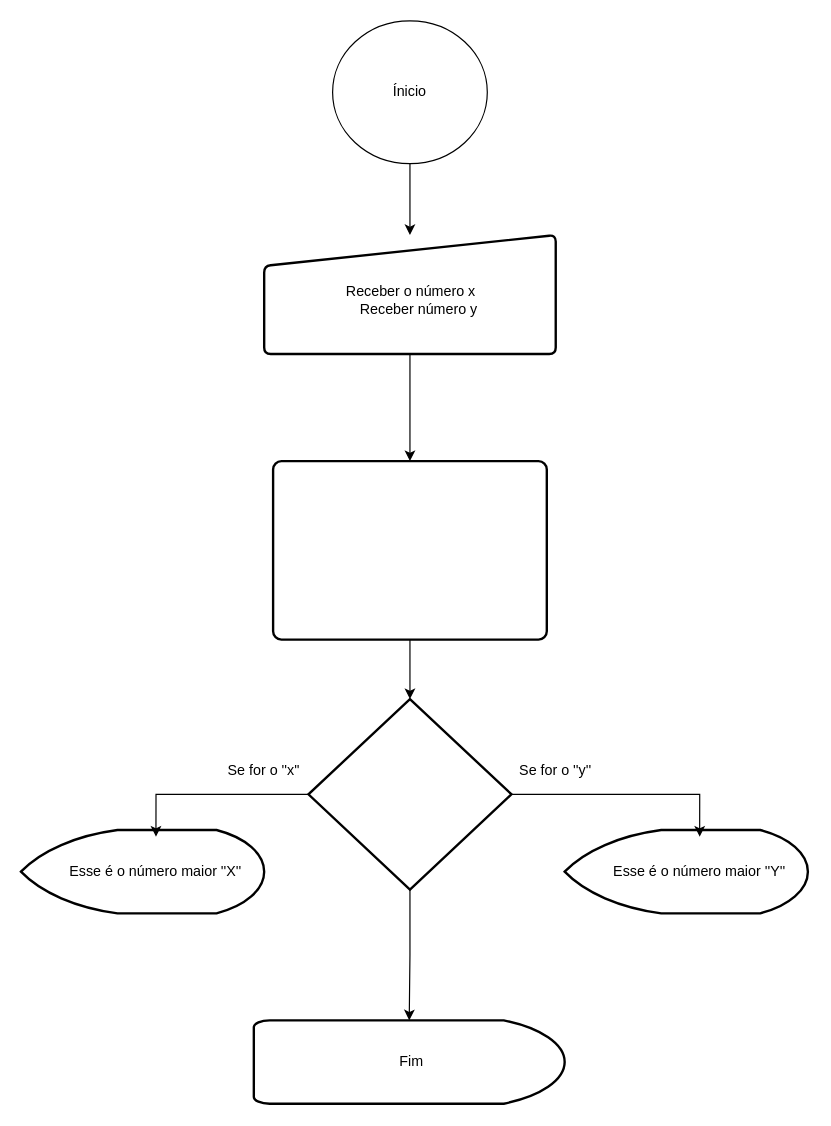
The diagram is 831 pixels wide and 1126 high, and some of its shapes have lost their labels. Each missing label, with the centre of its shape:
"Comparar Cada algoritmo do número x e y Deixar apenas o maior numero" belongs at point (409, 549).
"Deixar apenas o maior numero" belongs at point (409, 793).
